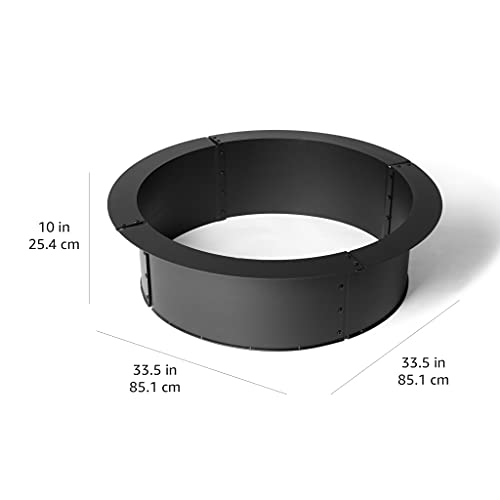10in: (39, 222, 69, 232)
25.4cm: (29, 239, 79, 249)
33.5: (402, 357, 429, 368)
85.1cm: (130, 382, 180, 392)
in: (435, 357, 445, 367)
